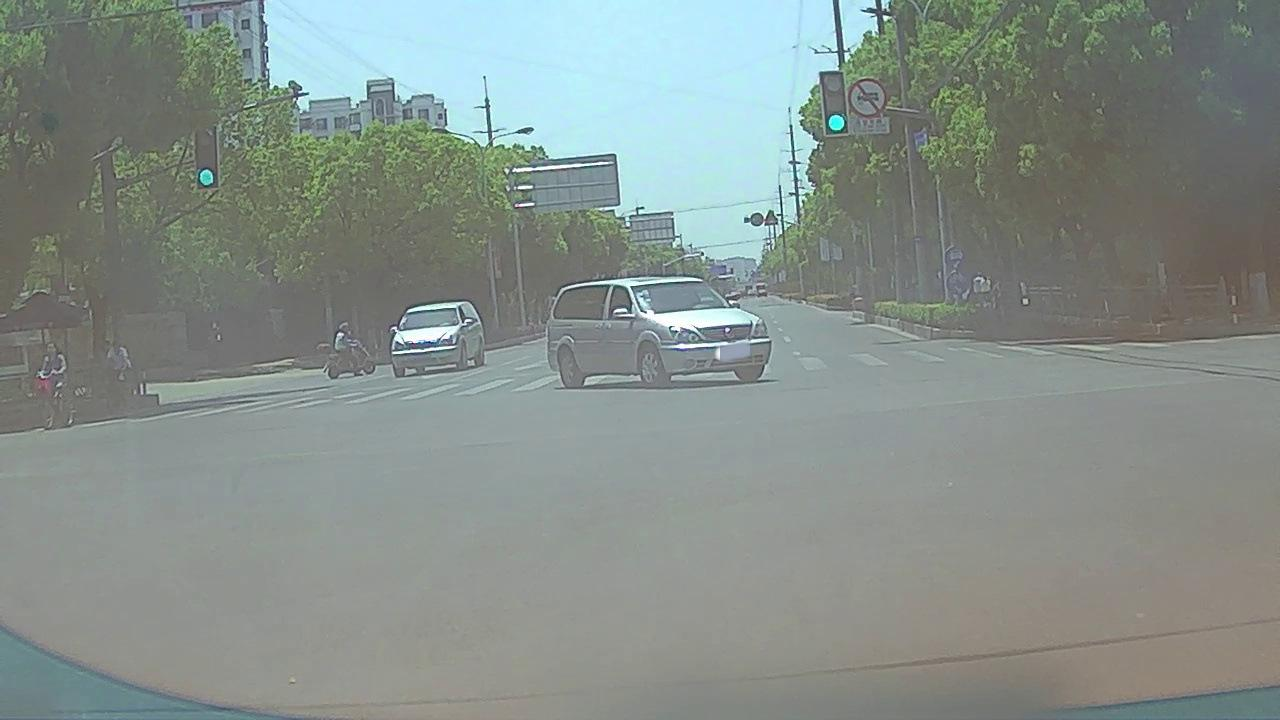traffic_light: (195, 123, 219, 189), (823, 70, 847, 136)
